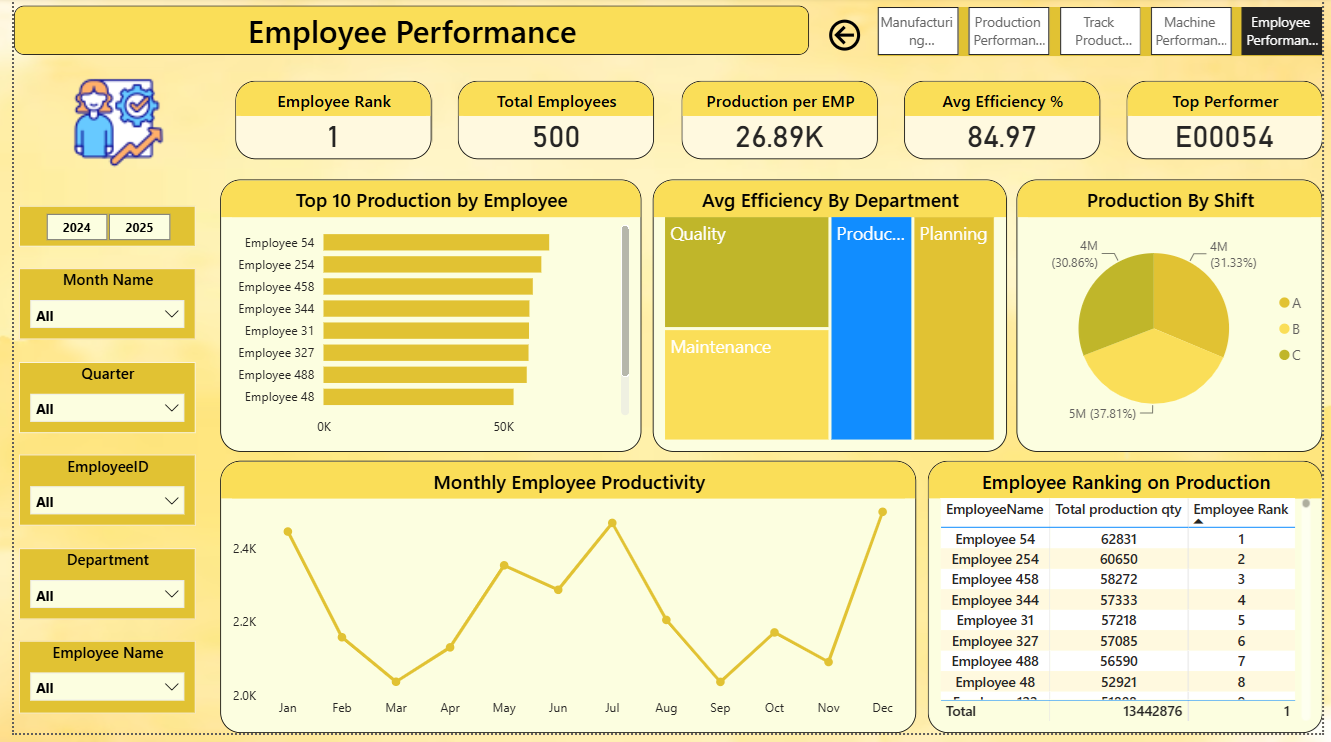

The page's visual inventory and layout, read from the dashboard file:
{"tool":"powerbi","page":{"name":"Employee Performance","canvas":[1280,720],"ordinal":4},"visuals":[{"type":"textbox","title":"Employee Performance","box":[0,8.6,777.7,47.7],"z":0},{"type":"clusteredBarChart","title":"Top 10 Production by Employee","fields":{"Category":["Dim_Employee.EmployeeName"],"Y":["Measure Table.Total production qty"]},"box":[201.8,178.5,412.1,266.6],"z":1000},{"type":"pieChart","title":"Production By Shift","fields":{"Category":["Dim_Employee.Shift"],"Y":["Measure Table.Total production qty"]},"box":[980.7,178.5,299.6,266.6],"z":2000},{"type":"tableEx","title":"Employee Ranking on Production","fields":{"Values":["Dim_Employee.EmployeeName","Measure Table.Total production qty","Measure Table.Employee Rank"]},"box":[893.9,453.7,386.4,266.6],"z":3000},{"type":"treemap","title":"Avg Efficiency By Department","fields":{"Group":["Dim_Employee.Department"],"Values":["Measure Table.Average Efficiency %"]},"box":[624.9,178.5,346.1,266.6],"z":4000},{"type":"lineChart","title":"Monthly Employee Productivity","fields":{"Category":["Dim_Date.Month Short"],"Y":["Measure Table.Total Production Per Employee"]},"box":[201.8,453.7,681.1,266.6],"z":5000},{"type":"card","title":"Total Employees","fields":{"Values":["Measure Table.Total employees"]},"box":[434.4,81.9,192,77],"z":6000},{"type":"card","title":"Production per EMP","fields":{"Values":["Measure Table.Total Production Per Employee"]},"box":[652.4,81.9,192,77],"z":7000},{"type":"card","title":"Avg Efficiency %","fields":{"Values":["Measure Table.Average Efficiency %"]},"box":[870.4,81.9,192,77],"z":8000},{"type":"card","title":"Top Performer","fields":{"Values":["Measure Table.Top Performer"]},"box":[1088,81.9,192,77],"z":9000},{"type":"slicer","fields":{"Values":["Dim_Date.Year"]},"box":[4.9,204.2,172.4,40.4],"z":10000},{"type":"slicer","title":"Month Name","fields":{"Values":["Dim_Date.Month Short"]},"box":[4.9,265.8,172.4,69.7],"z":11000},{"type":"slicer","title":"Quarter","fields":{"Values":["Dim_Date.Quarter"]},"box":[4.9,356.8,172.4,69.7],"z":12000},{"type":"slicer","title":"EmployeeID","fields":{"Values":["Dim_Employee.EmployeeID"]},"box":[4.9,447.8,172.4,69.7],"z":13000},{"type":"slicer","title":"Department","fields":{"Values":["Dim_Employee.Department"]},"box":[4.9,538.8,172.4,69.7],"z":14000},{"type":"slicer","title":"Employee Name","fields":{"Values":["Dim_Employee.EmployeeName"]},"box":[4.9,629.8,172.4,70.9],"z":15000},{"type":"actionButton","box":[792.4,17.1,42.8,40.4],"z":16000},{"type":"pageNavigator","box":[845,9.8,435.3,47.7],"z":17000},{"type":"image","box":[37.9,48.9,126,140.6],"z":18000},{"type":"card","title":"Employee Rank","fields":{"Values":["Measure Table.Employee Rank"]},"box":[216.4,81.9,192,77],"z":19000}]}

Visuals, with their boxes in screenshot pixels (x1, y1, x2, y2), scaled from the page's 1280x720 canvas onto the 1331x742 screenshot:
"Employee Performance" textbox: select_region(0, 9, 809, 58)
"Top 10 Production by Employee" clusteredBarChart: select_region(210, 184, 638, 459)
"Production By Shift" pieChart: select_region(1020, 184, 1330, 459)
"Employee Ranking on Production" tableEx: select_region(930, 468, 1330, 741)
"Avg Efficiency By Department" treemap: select_region(650, 184, 1010, 459)
"Monthly Employee Productivity" lineChart: select_region(210, 468, 918, 741)
"Total Employees" card: select_region(452, 84, 651, 164)
"Production per EMP" card: select_region(678, 84, 878, 164)
"Avg Efficiency %" card: select_region(905, 84, 1105, 164)
"Top Performer" card: select_region(1131, 84, 1330, 164)
slicer - Dim_Date.Year: select_region(5, 210, 184, 252)
"Month Name" slicer: select_region(5, 274, 184, 346)
"Quarter" slicer: select_region(5, 368, 184, 440)
"EmployeeID" slicer: select_region(5, 461, 184, 533)
"Department" slicer: select_region(5, 555, 184, 627)
"Employee Name" slicer: select_region(5, 649, 184, 722)
actionButton: select_region(824, 18, 868, 59)
pageNavigator: select_region(879, 10, 1330, 59)
image: select_region(39, 50, 170, 195)
"Employee Rank" card: select_region(225, 84, 425, 164)
